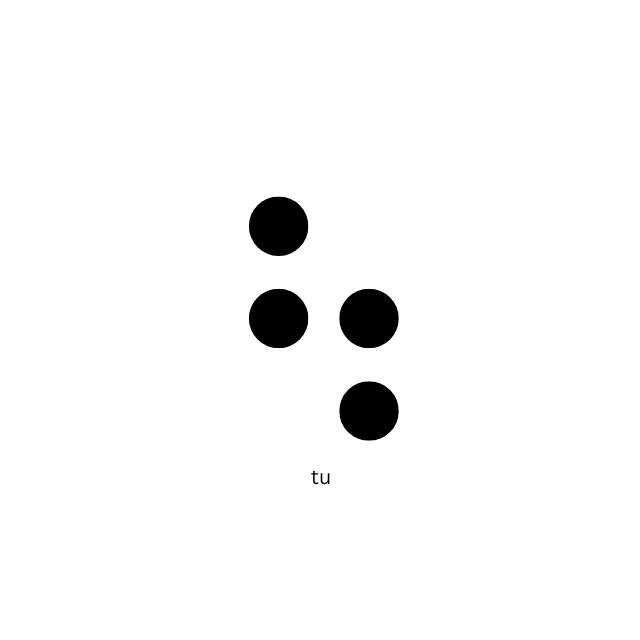one_cell_part_word_tu: (250, 196, 398, 442)
